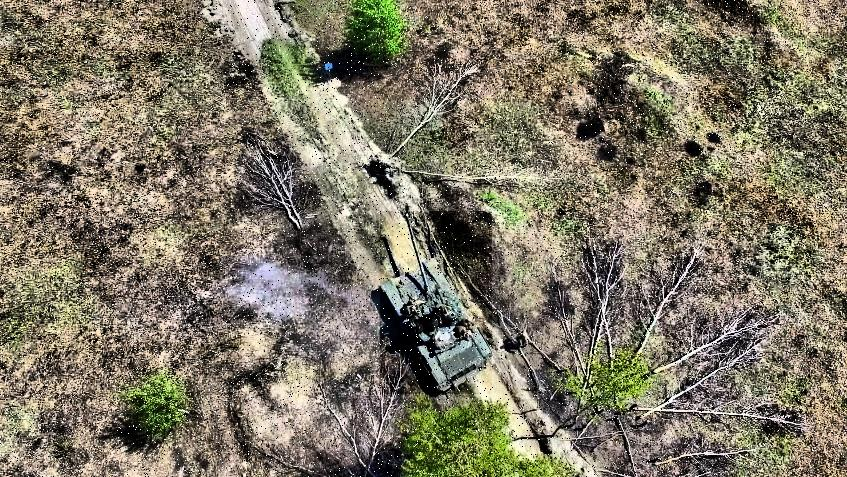military-vehicle: (380, 212, 492, 395)
